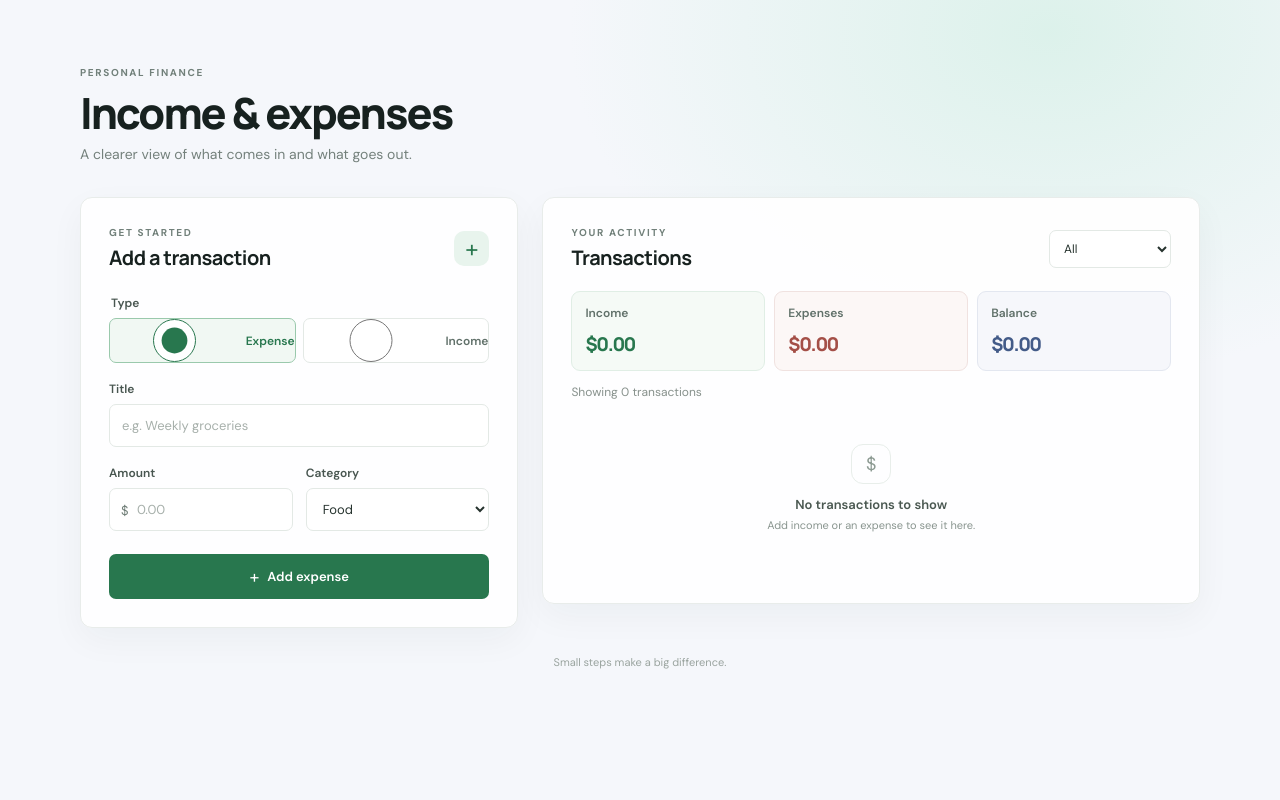
expense tracker › deletes an expense and recalculates the total
Type "Coffee" into the field labelled "Title".
click(299, 426); type("Coffee")  # box [109,404,489,447]
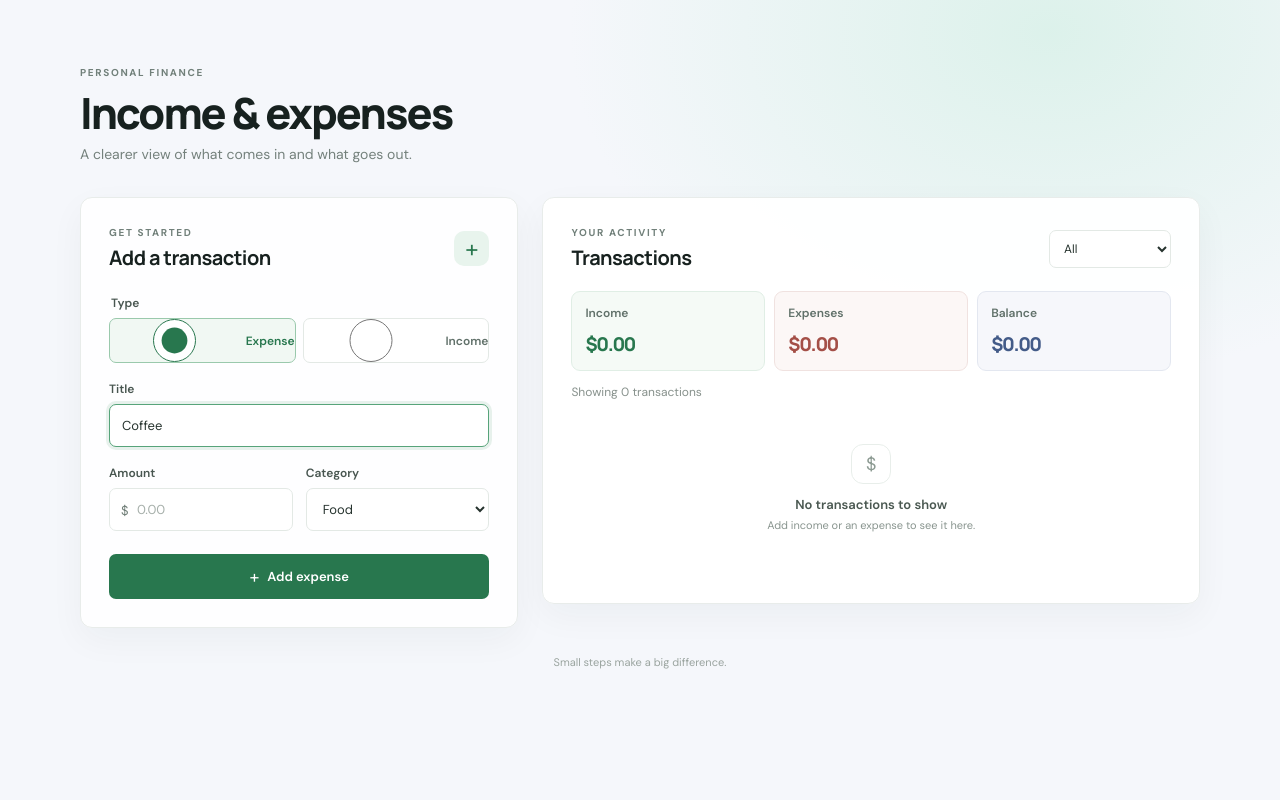
Type "5" into the number field labelled "Amount".
click(201, 510); type("5")  # box [109,488,293,531]
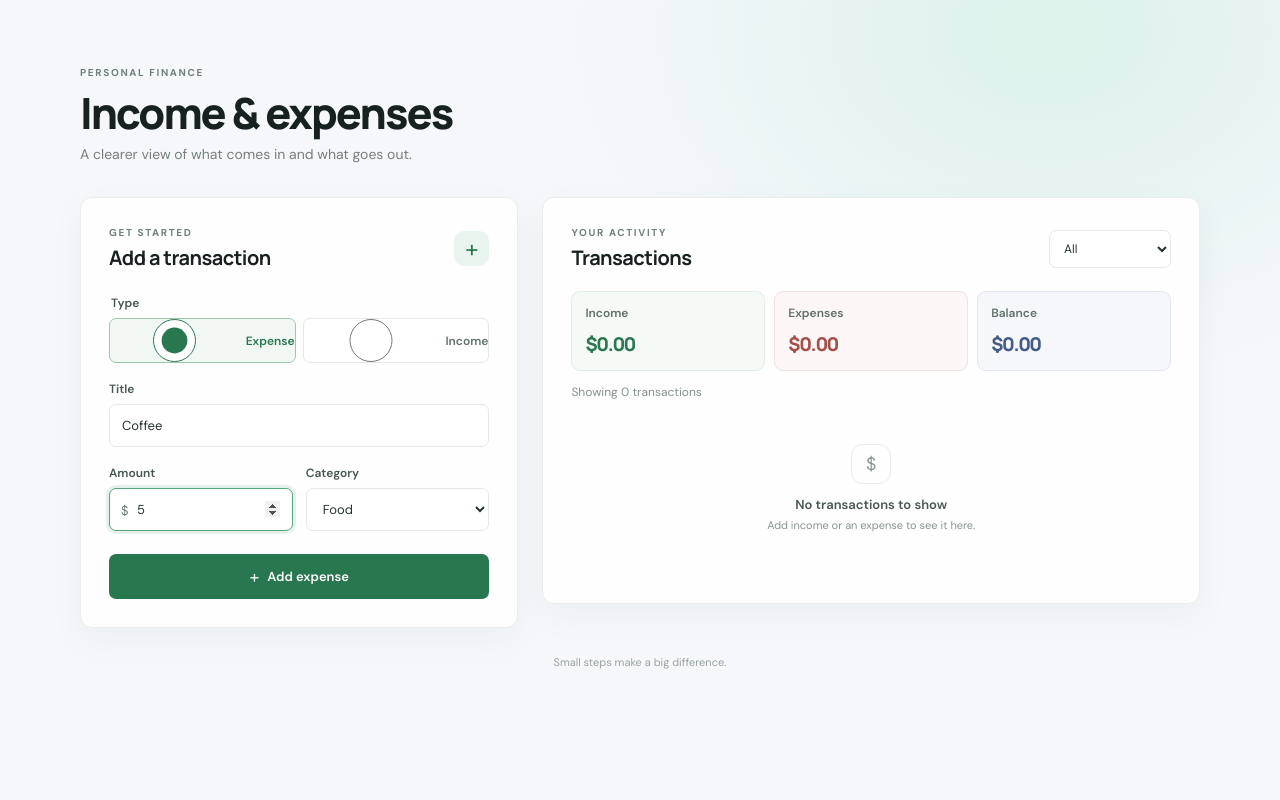
Click the button "+ Add expense".
click(299, 577)  # box [109,554,489,599]
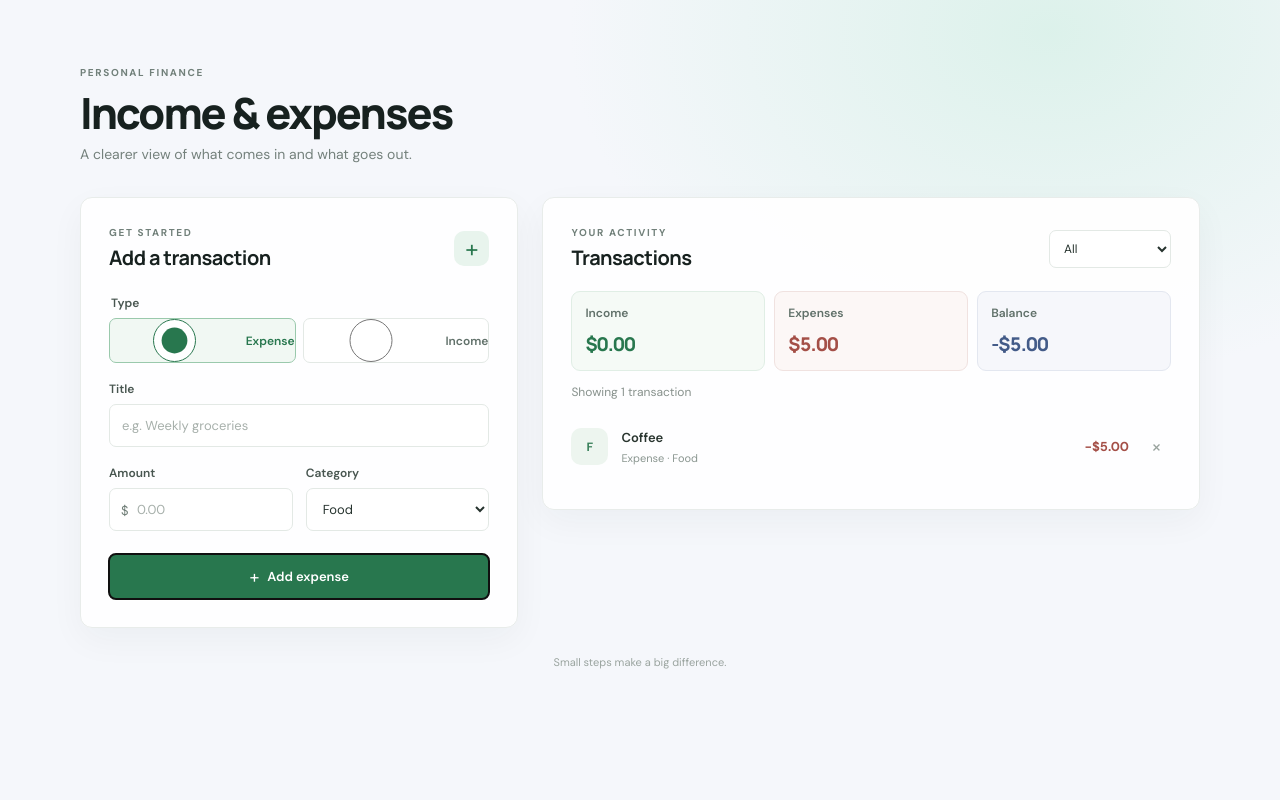
Click the button named "Delete Coffee".
click(1156, 447)  # box [1142,432,1171,461]
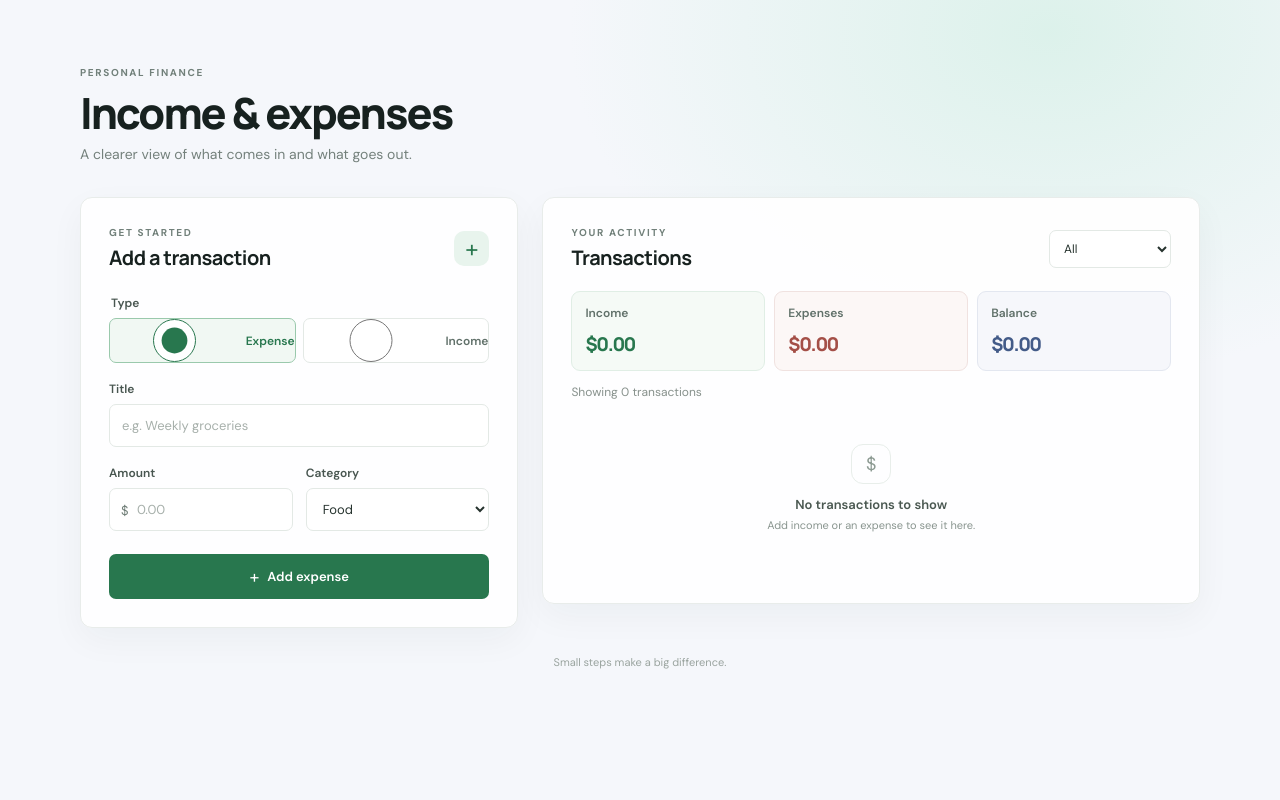
Now the text "Coffee" is gone
Now the text "Showing 0 transactions" is shown, box [571,384,702,400]
Now the text with test id "expense-total" reads "$0.00", box [788,331,838,357]
